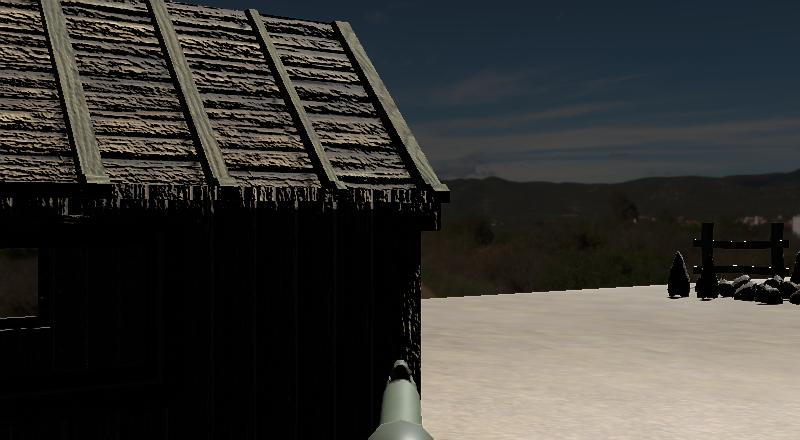House: (1, 0, 456, 440)
